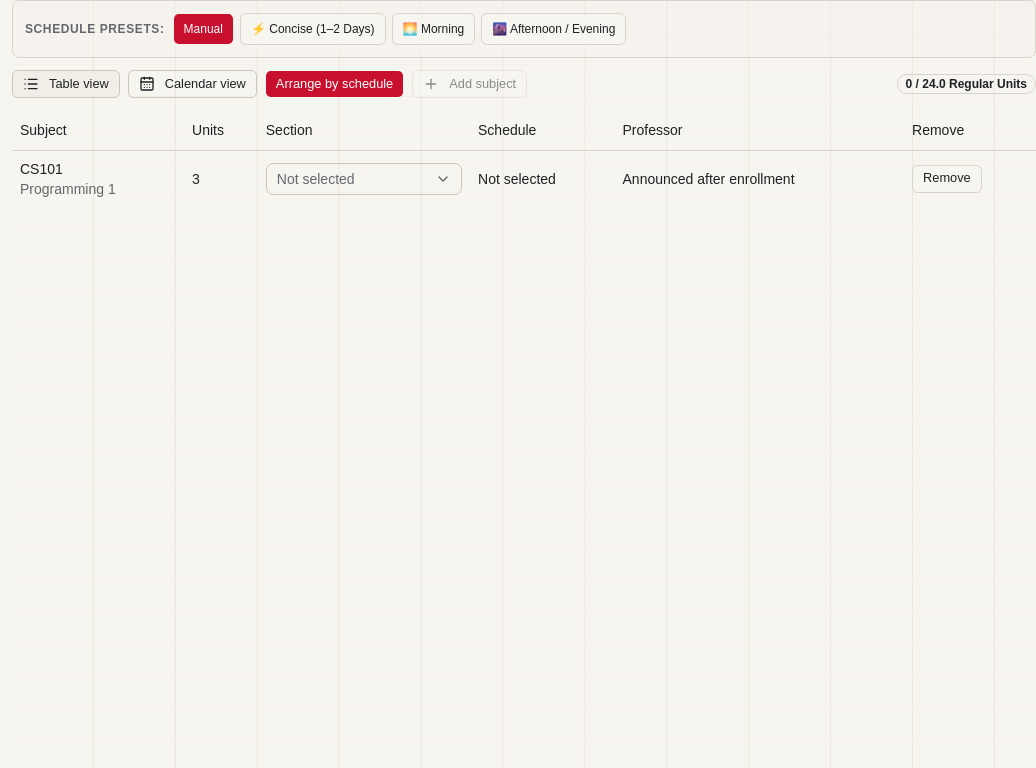
EligibleSubjectTable › still shows each option's own schedule while the picker is open, to tell sections apart
Click the dropdown named "CS101 section" at (364, 178), box [266,162,462,194]
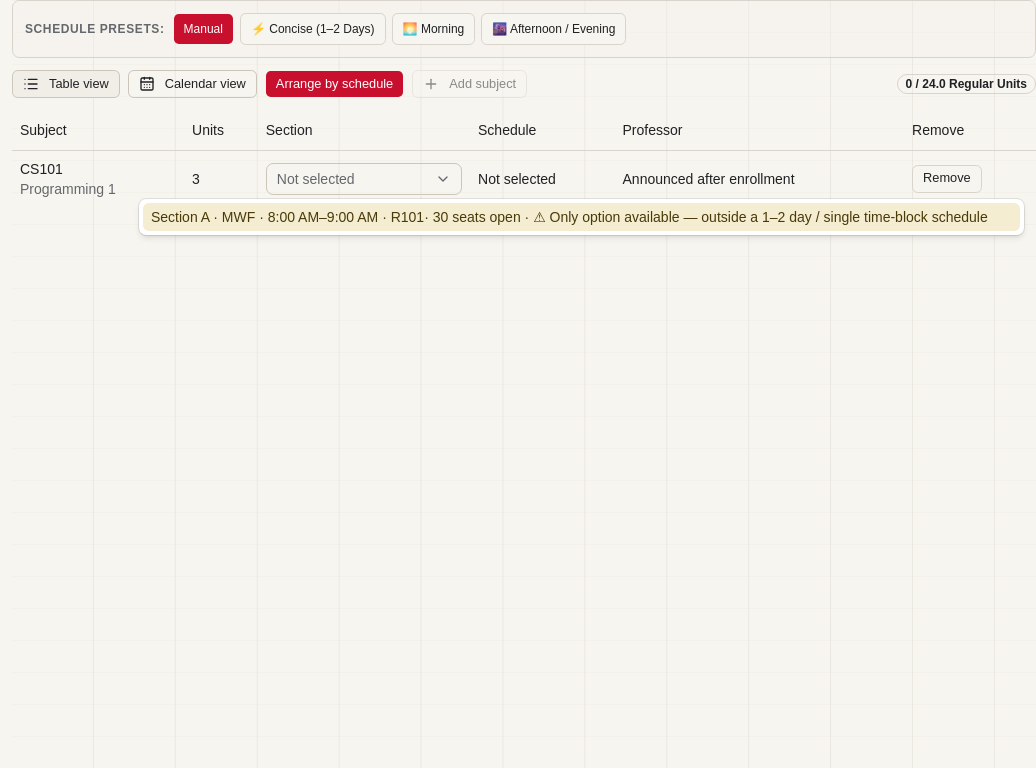
Expected: the option is shown, [143,203,1020,231]
